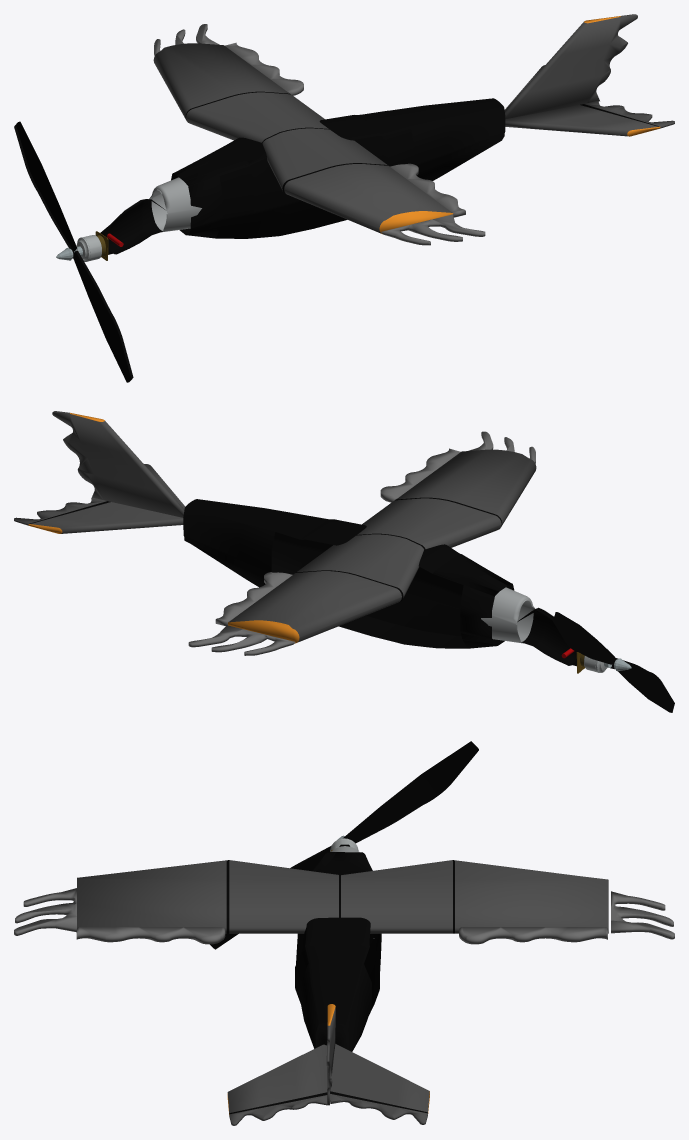
The model's file is forest_ranger (1).gltf.
The picture shows the model from 3 angles, top to bottom: view 1: azimuth 30°, elevation 25°; view 2: azimuth 150°, elevation 25°; view 3: azimuth 270°, elevation 25°; orthographic projection. The views are drawn at different scales.
Parts seen in each view (by area): view 1: Cube.004, Cube.003, Cylinder, Sphere.001; view 2: Cube.004, Cube.003, Cylinder, Cube.001, Sphere.001; view 3: Cube.004, Cube.003, Cube.001, Sphere.001.
Boxes of the visible parts, left/top/right/bottom form: Cube.004: left=171, top=14, right=674, bottom=245; Cube.003: left=153, top=24, right=303, bottom=118; Cylinder: left=56, top=177, right=201, bottom=261; Sphere.001: left=14, top=121, right=133, bottom=382; Cube.004: left=52, top=411, right=536, bottom=648; Cube.003: left=188, top=571, right=401, bottom=655; Cylinder: left=481, top=587, right=631, bottom=673; Cube.001: left=14, top=497, right=183, bottom=533; Sphere.001: left=553, top=612, right=674, bottom=712; Cube.004: left=14, top=852, right=454, bottom=1125; Cube.003: left=455, top=860, right=674, bottom=944; Cube.001: left=330, top=1044, right=429, bottom=1124; Sphere.001: left=210, top=741, right=478, bottom=949.
Size of the model in its own units: 629 by 209 by 541.
